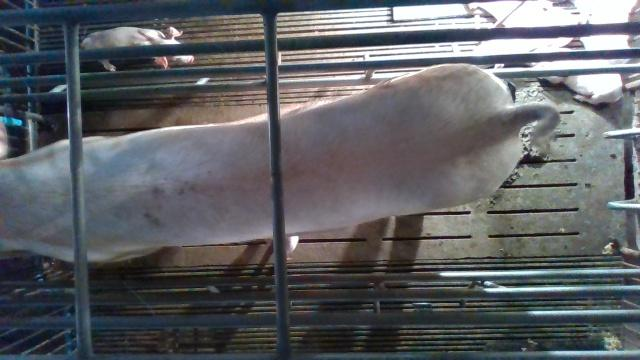piglet: (81, 25, 194, 71), (533, 48, 622, 104)
sow-stand-feed: (0, 63, 559, 262)
